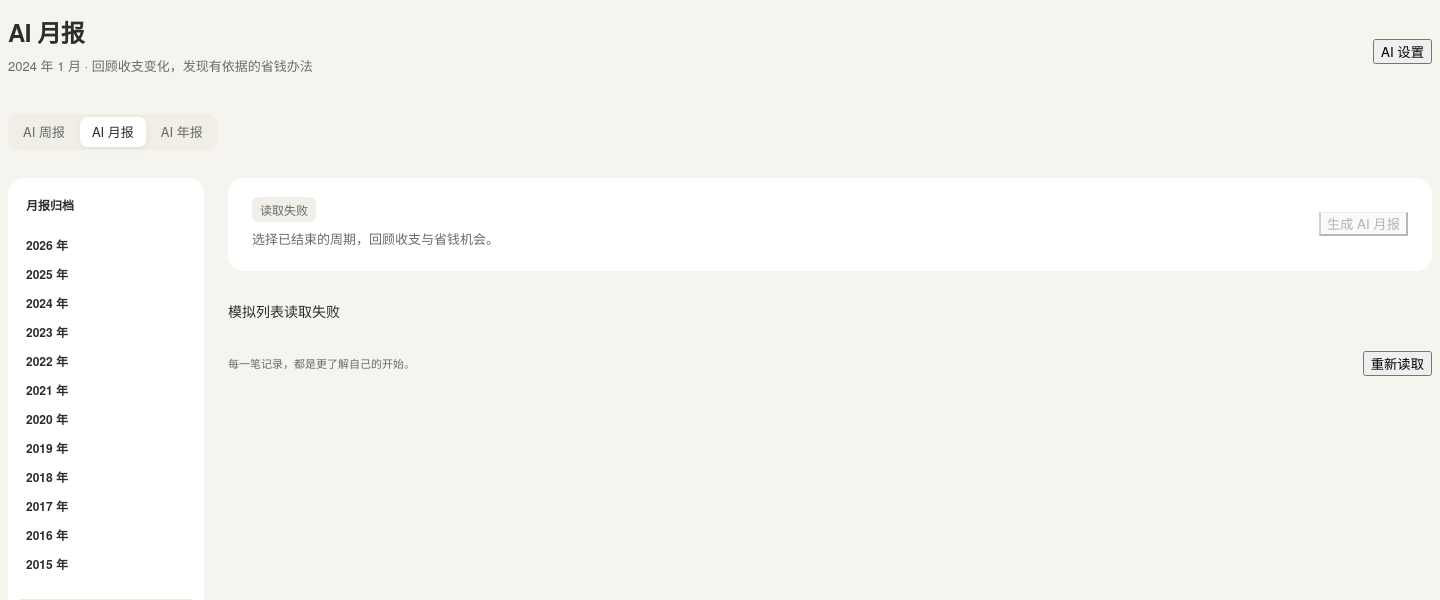
Scenario: 月报手动同步生成 › 深链接加载失败仍显示所选月份，不误报未配置
Expected: the text with class "state-chip" reads "读取失败", [260, 200, 308, 218]
Expected: the button "生成 AI 月报" is disabled, [1319, 212, 1408, 236]
Click the button "重新读取". click: (1397, 364)
box: [1363, 351, 1432, 376]
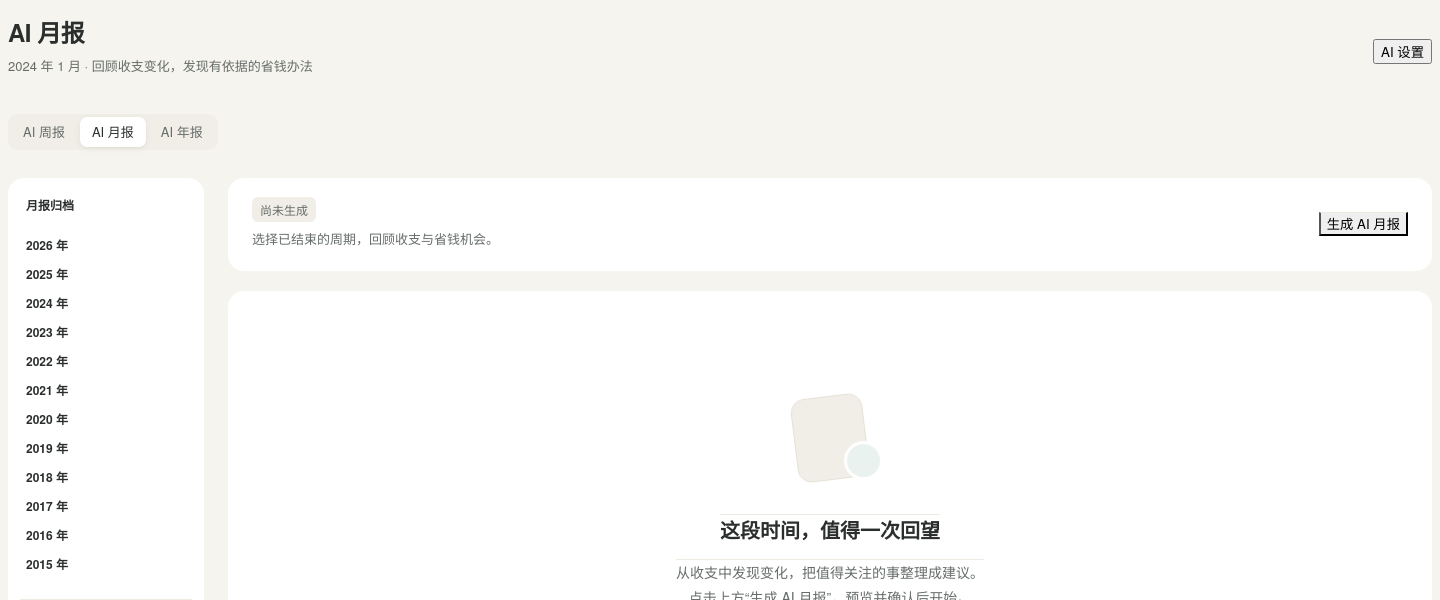
Now the text with class "state-chip" reads "尚未生成", box [260, 200, 308, 218]
Now the button "生成 AI 月报" is enabled, box [1319, 212, 1408, 236]
